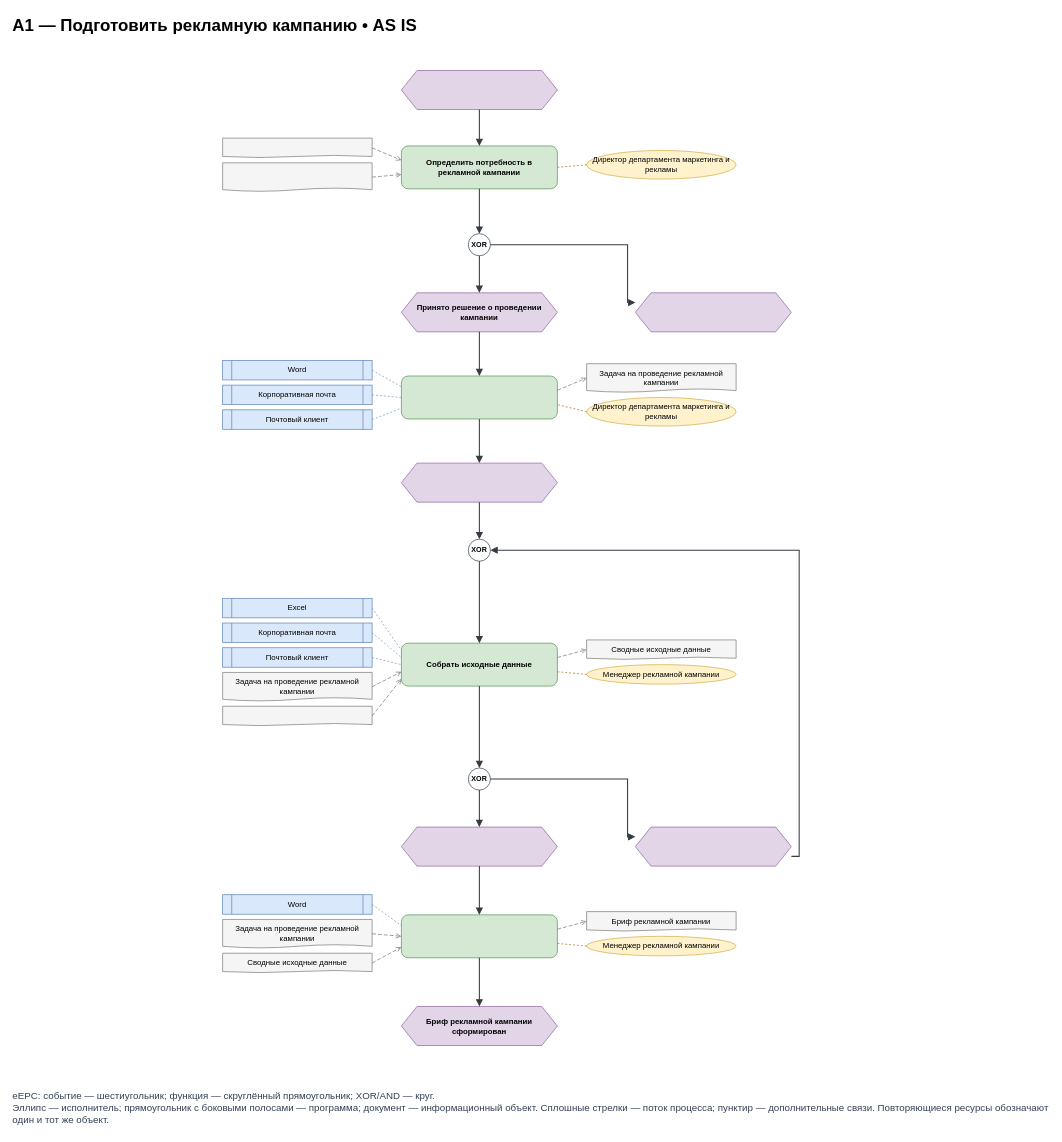
Image size: 1062x1142. Some labels were removed from this diagram. Each missing label, with the centre of its shape:
Возникла потребность в проведении рекламной кампании: point (479, 90)
Задача на проведение кампании сформирована: point (479, 482)
Исходные данные неполны или противоречивы: point (713, 846)
Исходные данные полны и проверены: point (479, 846)
Исходные коммерческие данные: point (297, 716)
Оформлено решение об отказе от проведения кампании: point (713, 312)
План продвижения: point (297, 147)
Сведения о потребности в рекламной кампании: point (297, 176)
Сформировать бриф рекламной кампании: point (479, 936)
Сформировать задачу на проведение рекламной кампании: point (479, 397)
